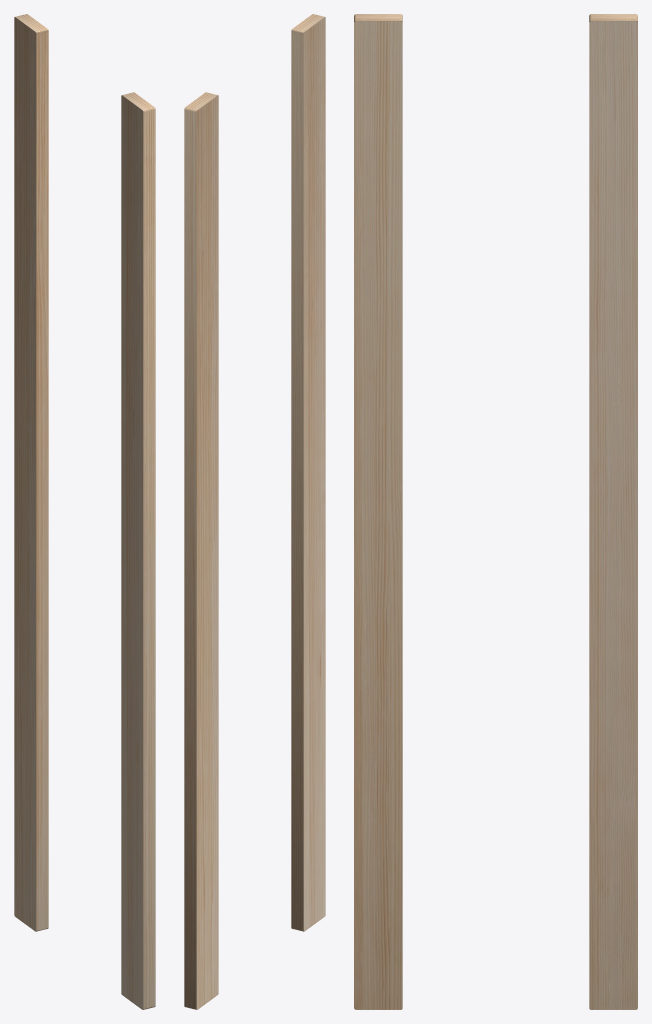
3 views of the same model, side by side, from view 1: azimuth 30°, elevation 25°; view 2: azimuth 150°, elevation 25°; view 3: azimuth 270°, elevation 25° (orthographic). The views are drawn at different scales.
Parts seen in each view (by area): view 1: TransformZUpToYUp.064; view 2: TransformZUpToYUp.064; view 3: TransformZUpToYUp.064.
Part boxes in pixels (left/top/right/bottom): TransformZUpToYUp.064: left=14, top=14, right=155, bottom=1009; TransformZUpToYUp.064: left=184, top=14, right=325, bottom=1009; TransformZUpToYUp.064: left=354, top=14, right=637, bottom=1009.
Size of the model in its own units: 16 by 1123 by 292.
1 material, 1 textured.
